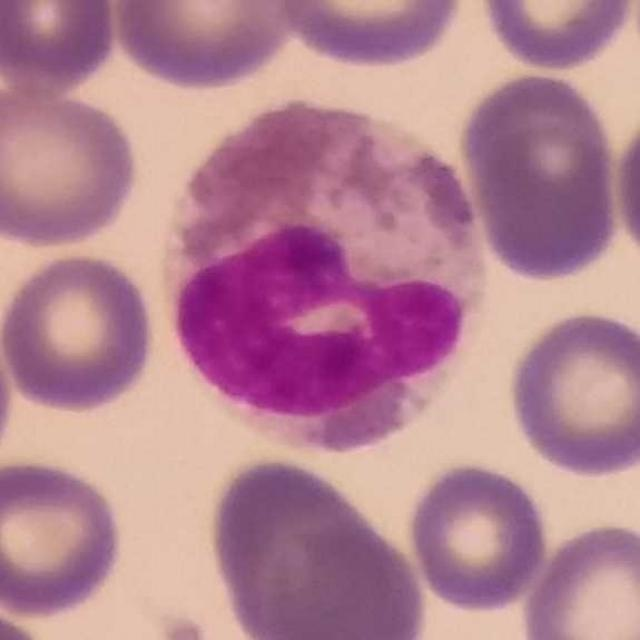eosino: (165, 92, 494, 450)
